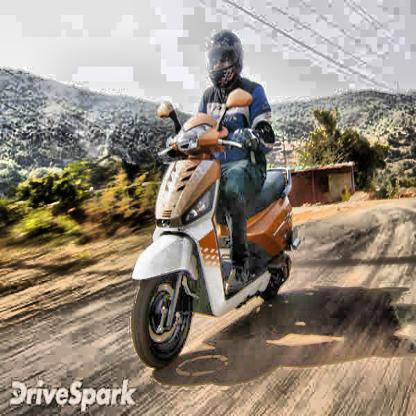wear: (207, 33, 242, 91)
